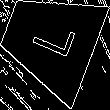L_W: (23, 17, 77, 64)
